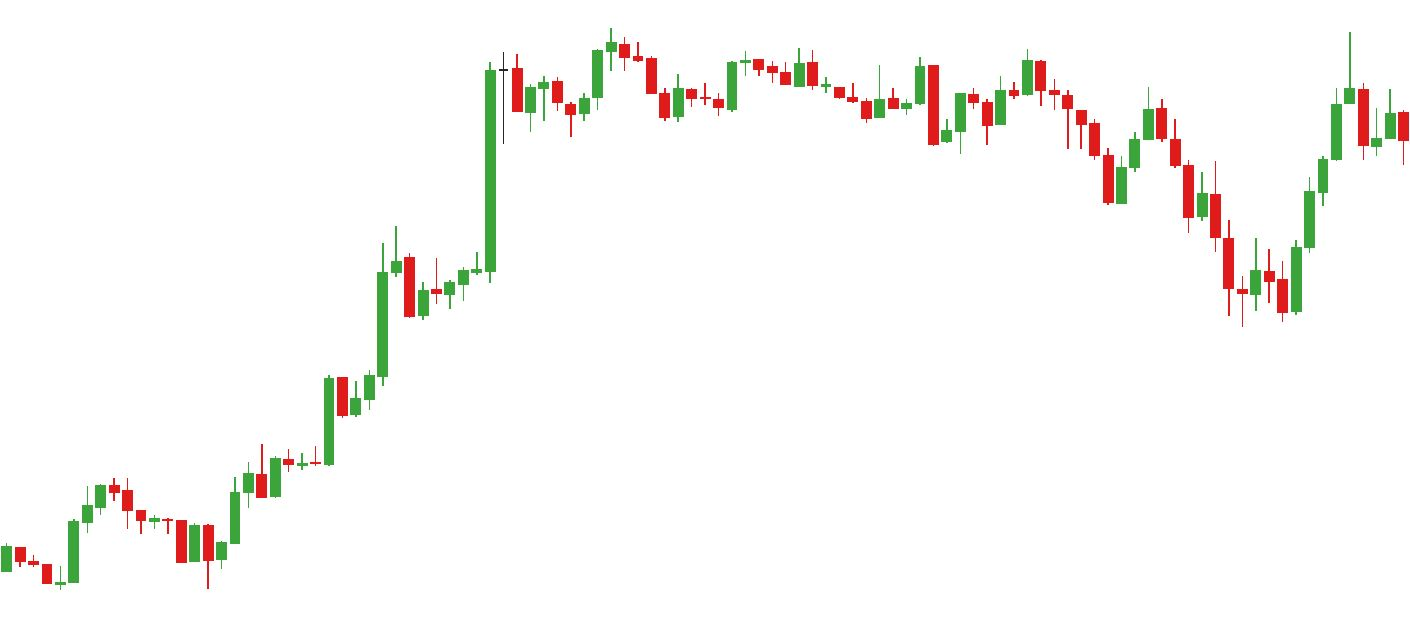sell: (1144, 31, 1371, 182), (499, 24, 633, 101)
